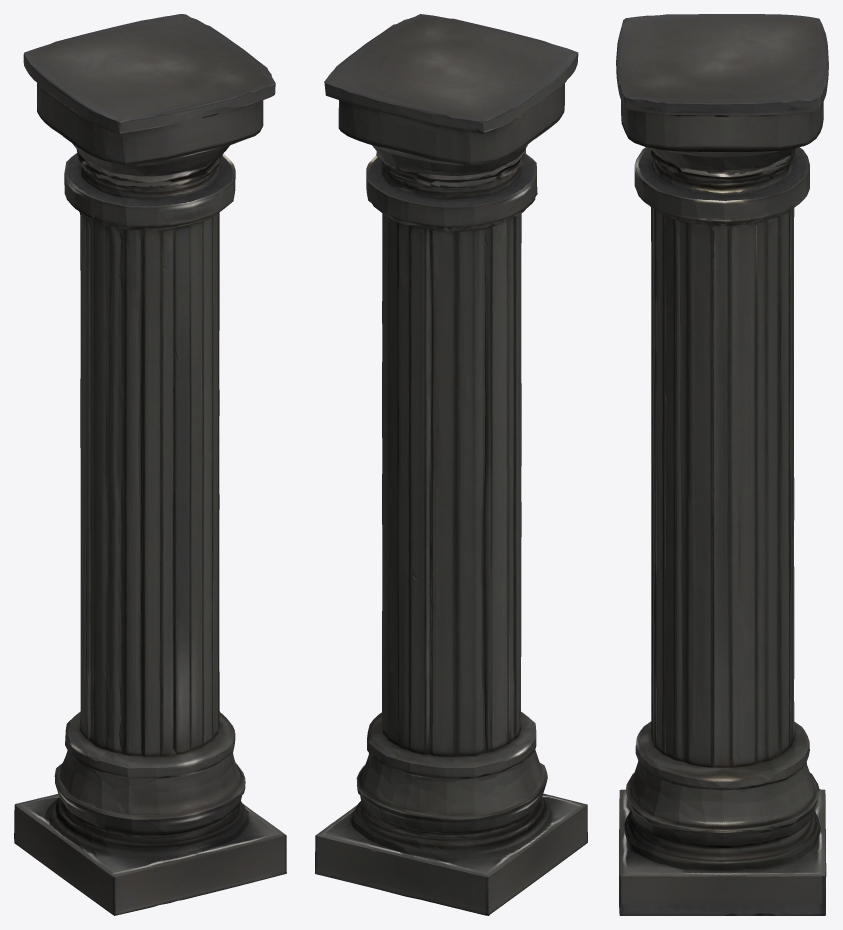
File: AncientPillar.fbx
3 renders of one model, left to right at view 1: azimuth 30°, elevation 25°; view 2: azimuth 150°, elevation 25°; view 3: azimuth 270°, elevation 25°, orthographic. The views are drawn at different scales.
Visible parts, largest first — view 1: temp; view 2: temp; view 3: temp.
Boxes of the visible parts, x1,y1,x2,y2 form: temp: [14, 14, 286, 915]; temp: [315, 14, 587, 915]; temp: [616, 14, 828, 915].
Size of the model in its own units: 47.48 by 200 by 47.39.
1 material, 1 textured.
